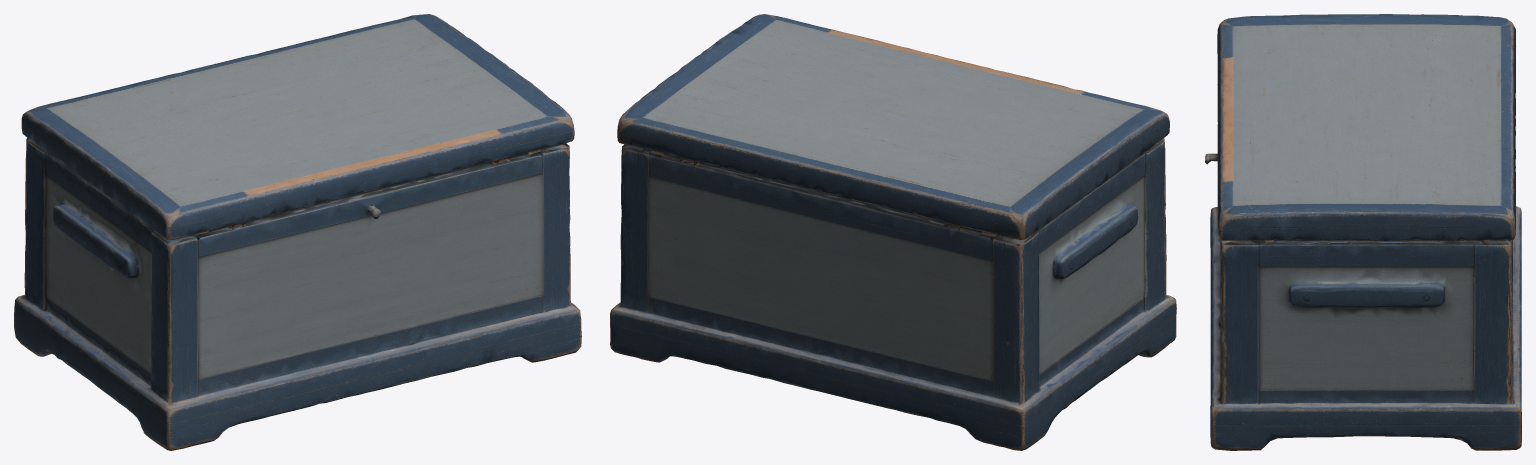
Rendered from VAR_Bedroom_ToyChest.fbx.
3 views of the same model, side by side, from view 1: azimuth 30°, elevation 25°; view 2: azimuth 150°, elevation 25°; view 3: azimuth 270°, elevation 25° (orthographic).
Visible parts, largest first — view 1: texture_mapping; view 2: texture_mapping; view 3: texture_mapping.
Part boxes in pixels (bbox=[...]): texture_mapping: bbox=[14, 14, 581, 450]; texture_mapping: bbox=[610, 14, 1176, 450]; texture_mapping: bbox=[1205, 14, 1521, 450].
Size of the model in its own units: 0.9999 by 0.6553 by 0.5434.
Materials: 1 (1 with a texture image).
